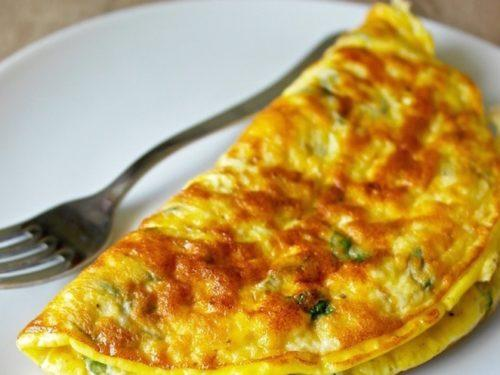omelette: (104, 29, 500, 375)
